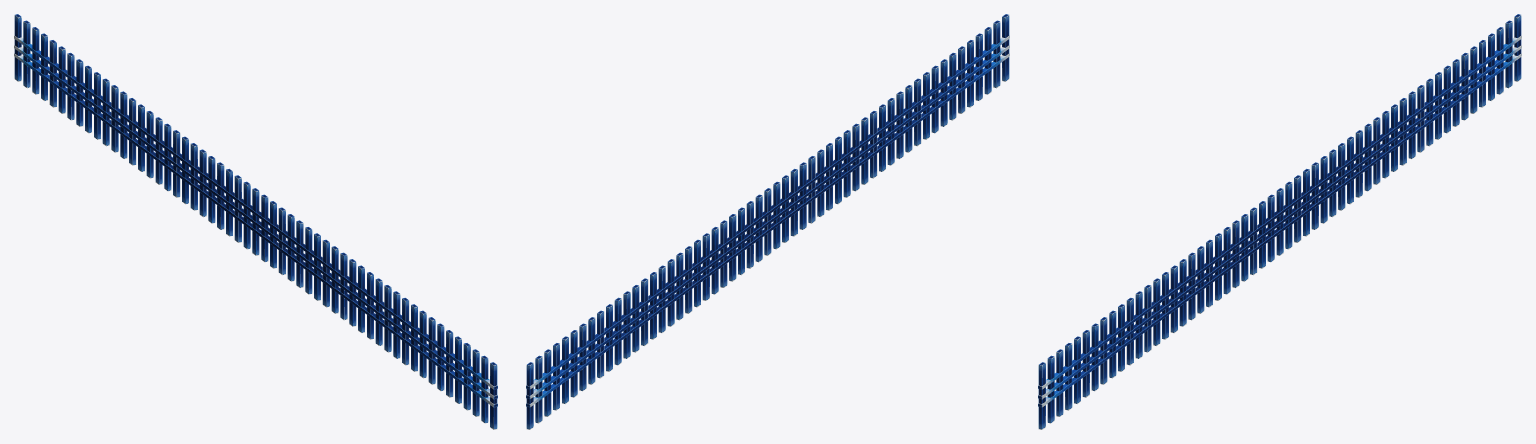
The picture shows the model from 3 angles, left to right: view 1: azimuth 30°, elevation 25°; view 2: azimuth 150°, elevation 25°; view 3: azimuth 330°, elevation 25°; orthographic projection.
Visible parts, largest first — view 1: 长; view 2: 长; view 3: 长.
Boxes of the visible parts, x1,y1,x2,y2 form: 长: (14, 14, 497, 429); 长: (526, 14, 1009, 429); 长: (1038, 14, 1521, 429).
Bounding box in the file's own units: 1.1 × 16.41 × 222.
Materials: 1 (1 with a texture image).
